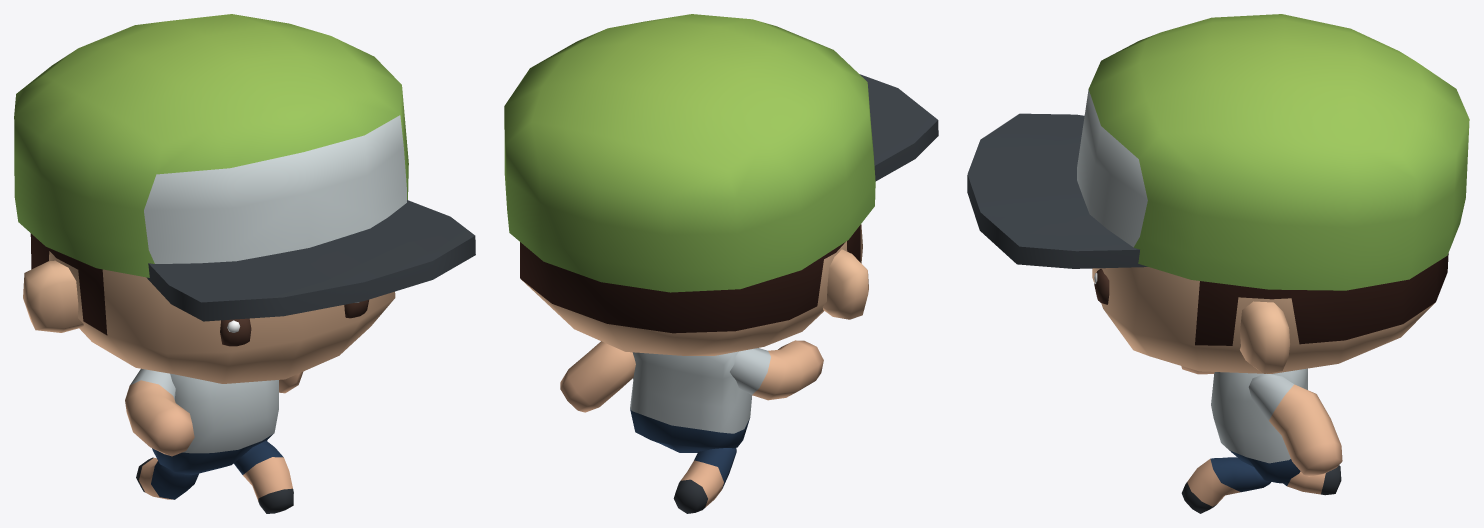
The model's file is run_0018.obj.
3 renders of one model, left to right at view 1: azimuth 30°, elevation 25°; view 2: azimuth 150°, elevation 25°; view 3: azimuth 270°, elevation 25°, orthographic. The views are drawn at different scales.
Parts seen in each view (by area): view 1: Object_41, Object_42, Object_36, Object_44, Object_38; view 2: Object_41, Object_36, Object_44, Object_42; view 3: Object_41, Object_36, Object_42, Object_44.
Part boxes in pixels (x1,y1,x2,y2): Object_41: (14, 14, 408, 277); Object_42: (144, 115, 475, 321); Object_36: (23, 233, 395, 383); Object_44: (125, 368, 303, 513); Object_38: (220, 299, 368, 346); Object_41: (504, 14, 875, 292); Object_36: (520, 224, 868, 355); Object_44: (560, 340, 823, 513); Object_42: (859, 74, 938, 181); Object_41: (1088, 14, 1469, 290); Object_36: (1092, 253, 1448, 373); Object_42: (967, 89, 1147, 268); Object_44: (1181, 366, 1342, 513).
Size of the model in its own units: 0.9691 by 1.15 by 1.13.
